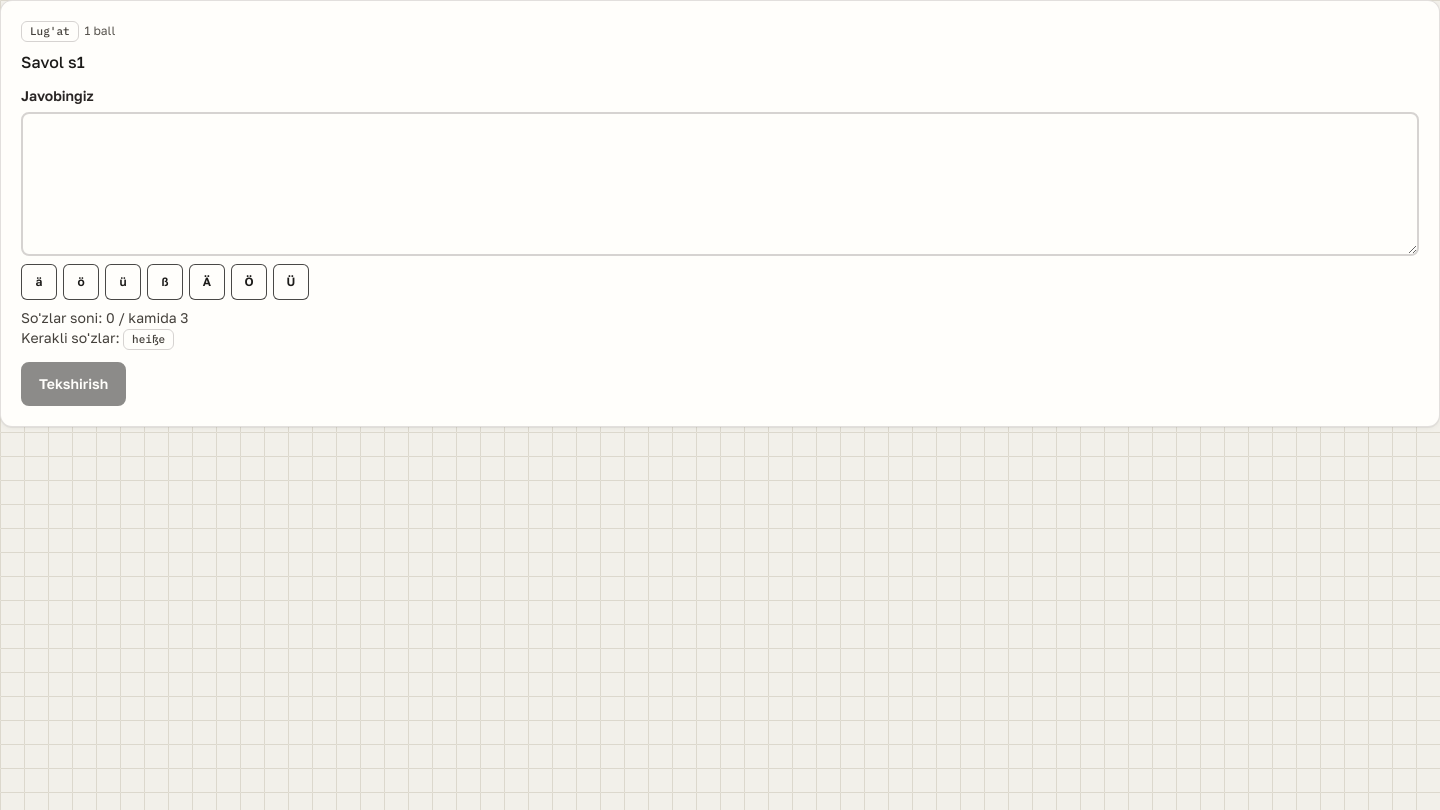
Scenario: short_text exercise › shows criteria while typing and the criteria checks after submit
expect the list item "So'zlar soni: 0 / kamida 3" is shown: met, box [21,309,188,326]
In the text box labelled "Javobingiz": (720, 184) [21,112,1419,256], type "Ich heiße Ali Karimov"
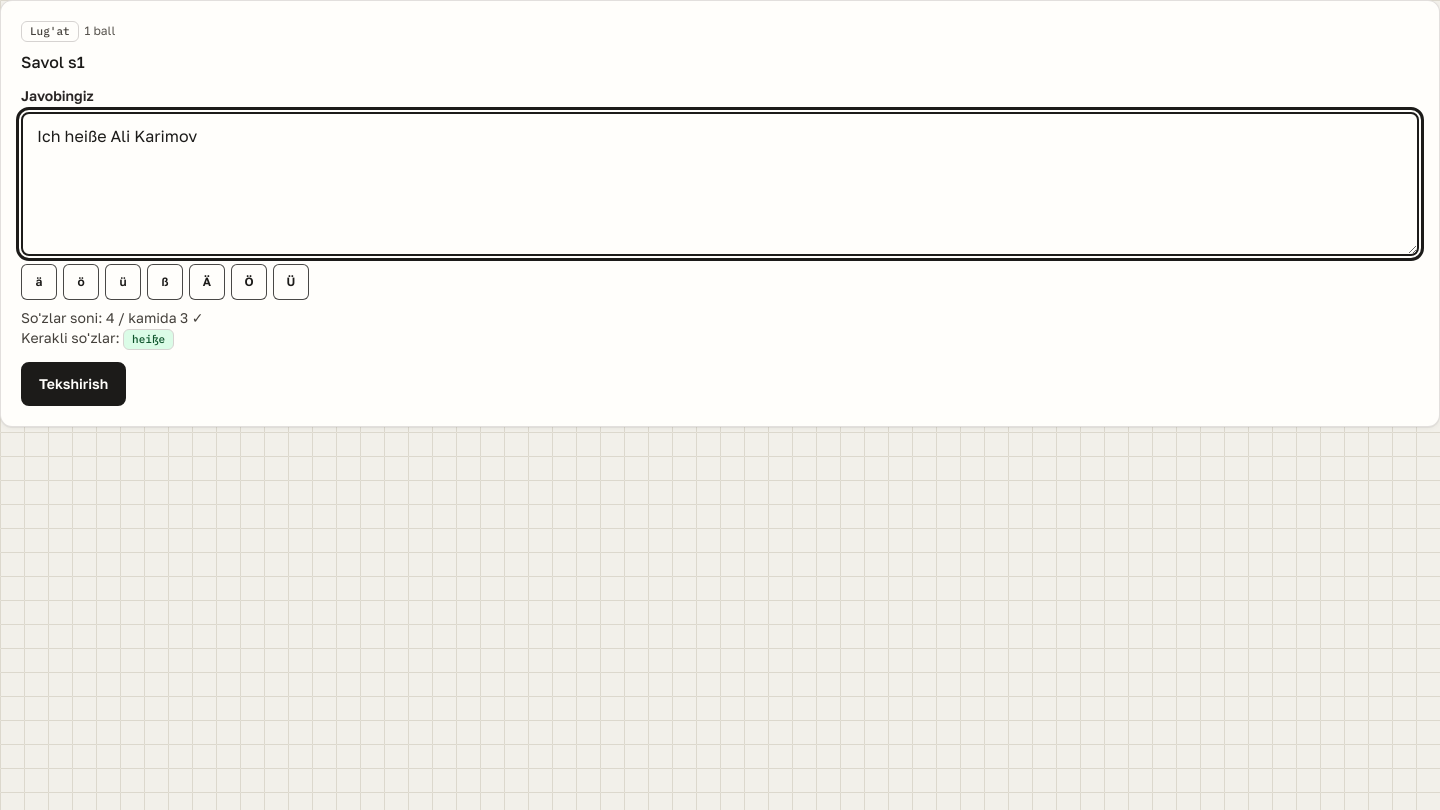
expect the list item "So'zlar soni: 4 / kamida 3 ✓" is shown: met, box [21,309,204,326]
Click the button "Tekshirish": (74, 384) [21,362,126,406]
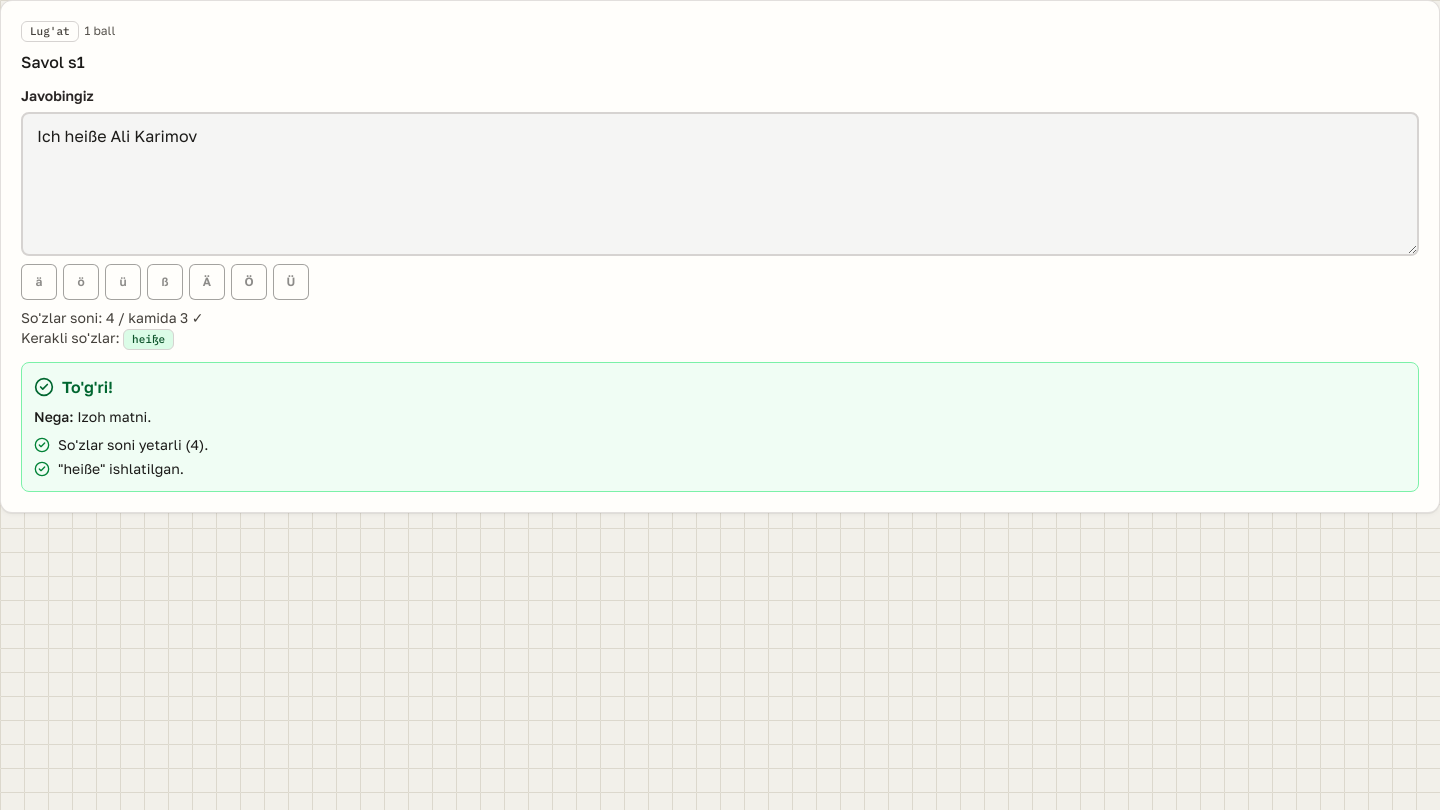
expect the list item "So'zlar soni yetarli (4)." is shown: met, box [34,436,208,453]
